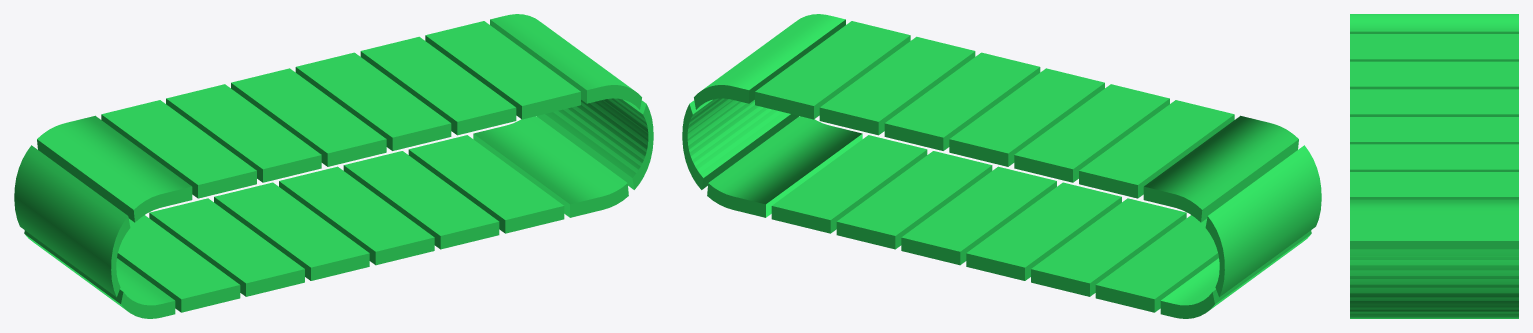
Rendered from Anime-Tapis_fixe_02.fbx.
3 renders of one model, left to right at view 1: azimuth 30°, elevation 25°; view 2: azimuth 150°, elevation 25°; view 3: azimuth 270°, elevation 25°, orthographic. The views are drawn at different scales.
Visible parts, largest first — view 1: Plane.004; view 2: Plane.004; view 3: Plane.004.
Boxes of the visible parts, x1=… form: Plane.004: x1=14, y1=14, x2=653, y2=318; Plane.004: x1=682, y1=14, x2=1321, y2=318; Plane.004: x1=1350, y1=14, x2=1518, y2=318.
Size of the model in its own units: 410 by 89.31 by 127.
